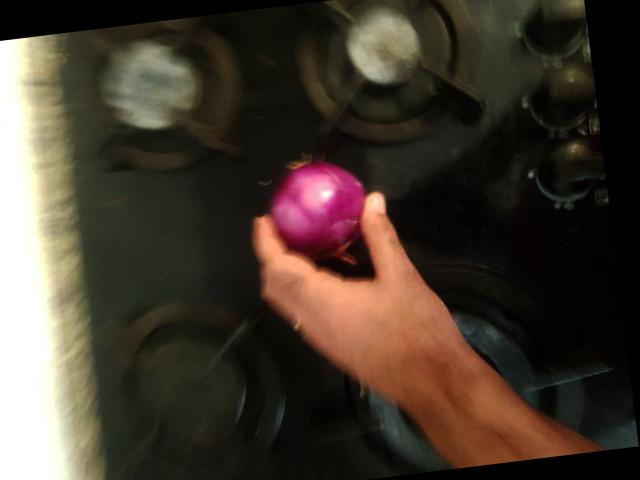onion: (116, 110, 212, 206)
